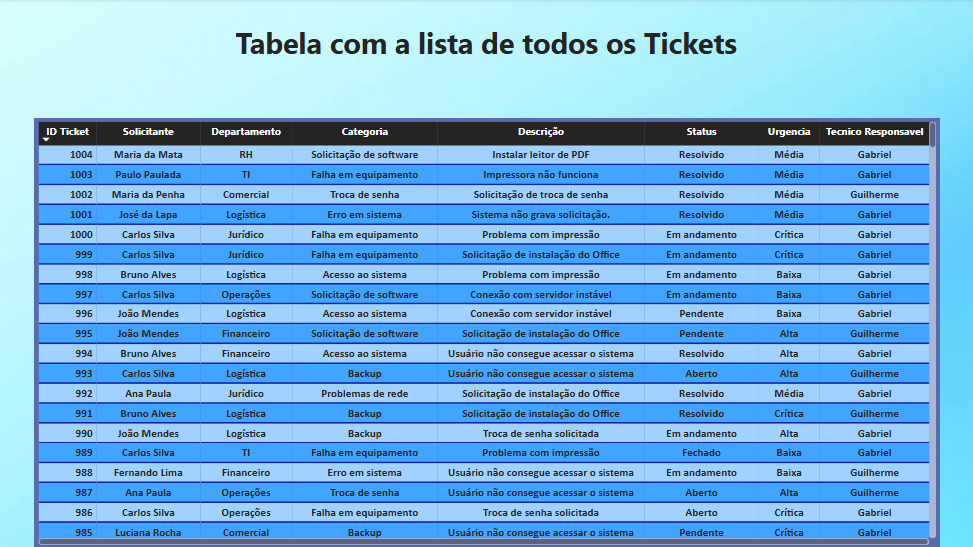

This screenshot's page, from the dashboard's own definition file:
{"tool":"powerbi","page":{"name":"Tabela com os Tickets","canvas":[1280,720],"ordinal":1},"visuals":[{"type":"tableEx","fields":{"Values":["chamados.IDChamado","chamados.Solicitante","chamados.Departamento","chamados.Categoria","chamados.DescricaoCurta","chamados.Status","chamados.Urgencia","chamados.TecnicoResponsavel"]},"box":[46.8,155.5,1186.4,564.3],"z":0},{"type":"textbox","box":[245,27.5,788.6,67.4],"z":1}]}

Visuals, with their boxes in screenshot pixels (x1, y1, x2, y2), scaled from the page's 1280x720 canvas onto the 973x547 screenshot:
tableEx - chamados.IDChamado x chamados.Solicitante: [x1=36, y1=118, x2=937, y2=546]
textbox: [x1=186, y1=21, x2=786, y2=72]
